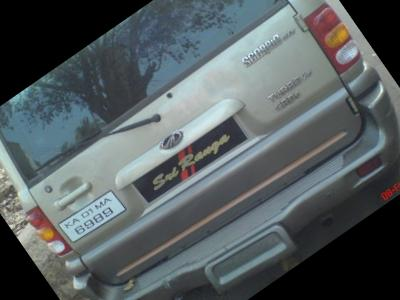plate: (49, 179, 134, 255)
